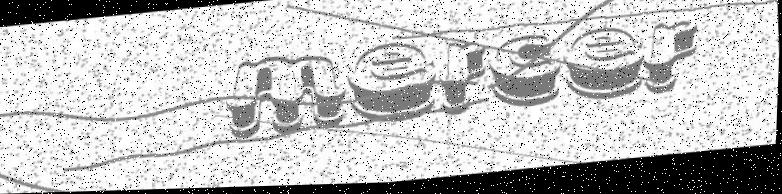c: (486, 33, 565, 115)
e: (342, 39, 442, 130), (559, 26, 650, 106)
m: (221, 49, 349, 142)
r: (636, 17, 703, 103), (436, 40, 491, 120)
